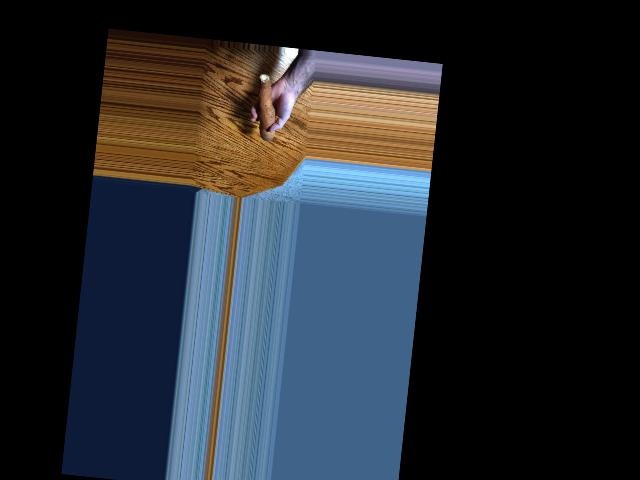sweet_potato: (254, 75, 280, 140)
